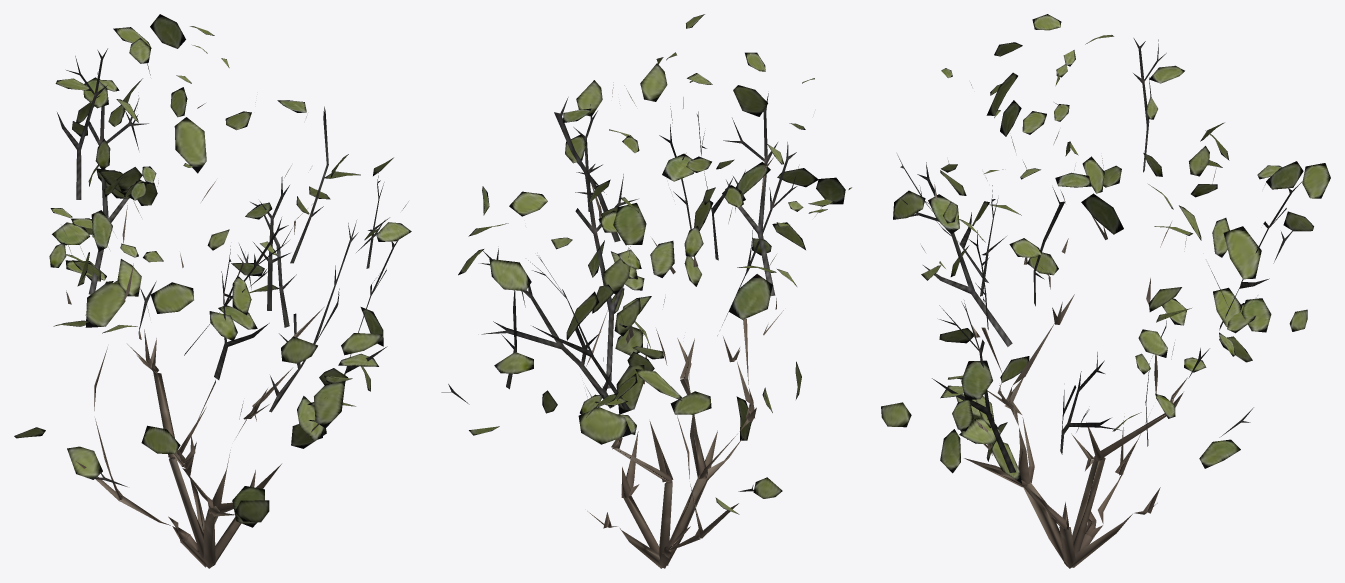
File: arbuste_searsia_b_lod2.glb
3 renders of one model, left to right at view 1: azimuth 30°, elevation 25°; view 2: azimuth 150°, elevation 25°; view 3: azimuth 270°, elevation 25°, orthographic. The views are drawn at different scales.
Visible parts, largest first — view 1: searsia_lucida_b_LOD0; view 2: searsia_lucida_b_LOD0; view 3: searsia_lucida_b_LOD0.
Boxes of the visible parts, x1=… form: searsia_lucida_b_LOD0: x1=14, y1=14, x2=411, y2=568; searsia_lucida_b_LOD0: x1=441, y1=14, x2=851, y2=568; searsia_lucida_b_LOD0: x1=881, y1=14, x2=1330, y2=568.
Bounding box in the file's own units: 1.23 × 1.98 × 1.49.
Materials: 2 (2 with a texture image).
